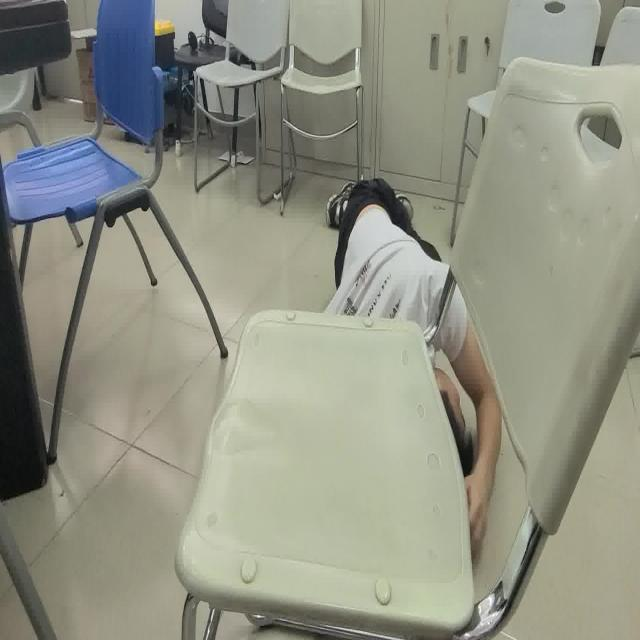Fall-Detected: (322, 169, 504, 546)
